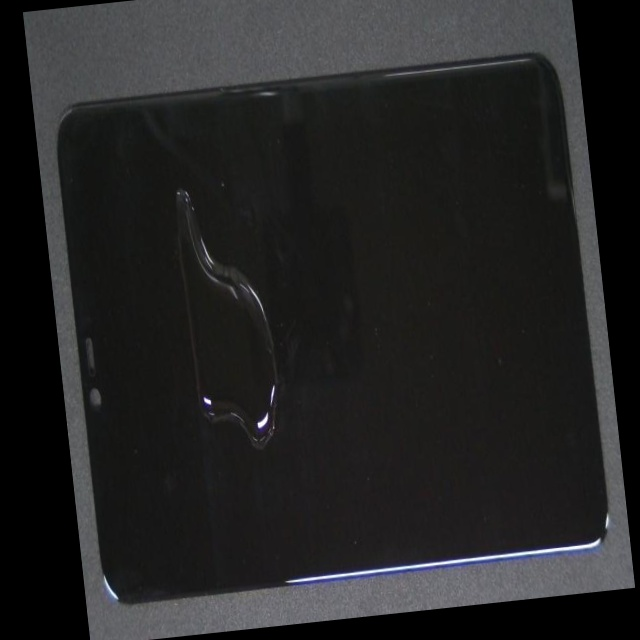oil: (177, 194, 371, 478)
